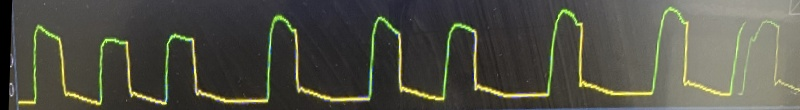normal_pressure: (17, 4, 736, 110)
